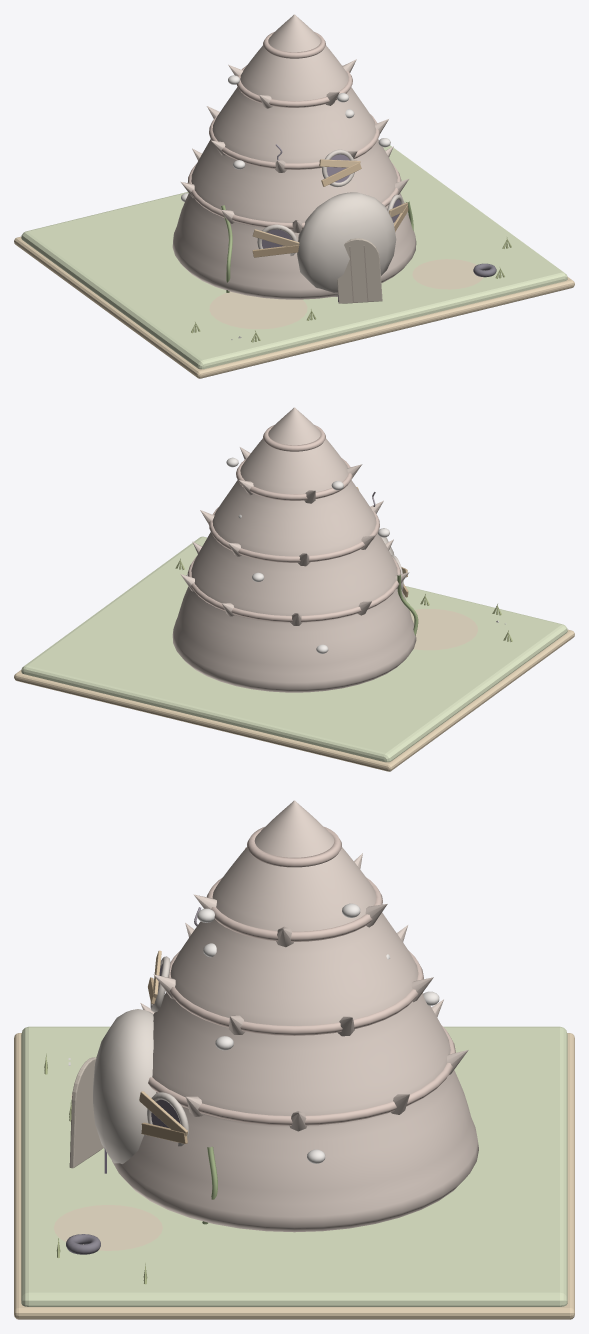
The model's file is building_ocean_L01.glb.
3 renders of one model, top to bottom at view 1: azimuth 30°, elevation 25°; view 2: azimuth 150°, elevation 25°; view 3: azimuth 270°, elevation 25°, orthographic. The views are drawn at different scales.
Visible parts, largest first — view 1: ocean_L1; view 2: ocean_L1; view 3: ocean_L1.
Part boxes in pixels (<box>): ocean_L1: <box>14,14,574,378</box>; ocean_L1: <box>14,407,574,771</box>; ocean_L1: <box>14,800,574,1319</box>.
Bounding box in the file's own units: 26.61 × 17.48 × 22.6.
